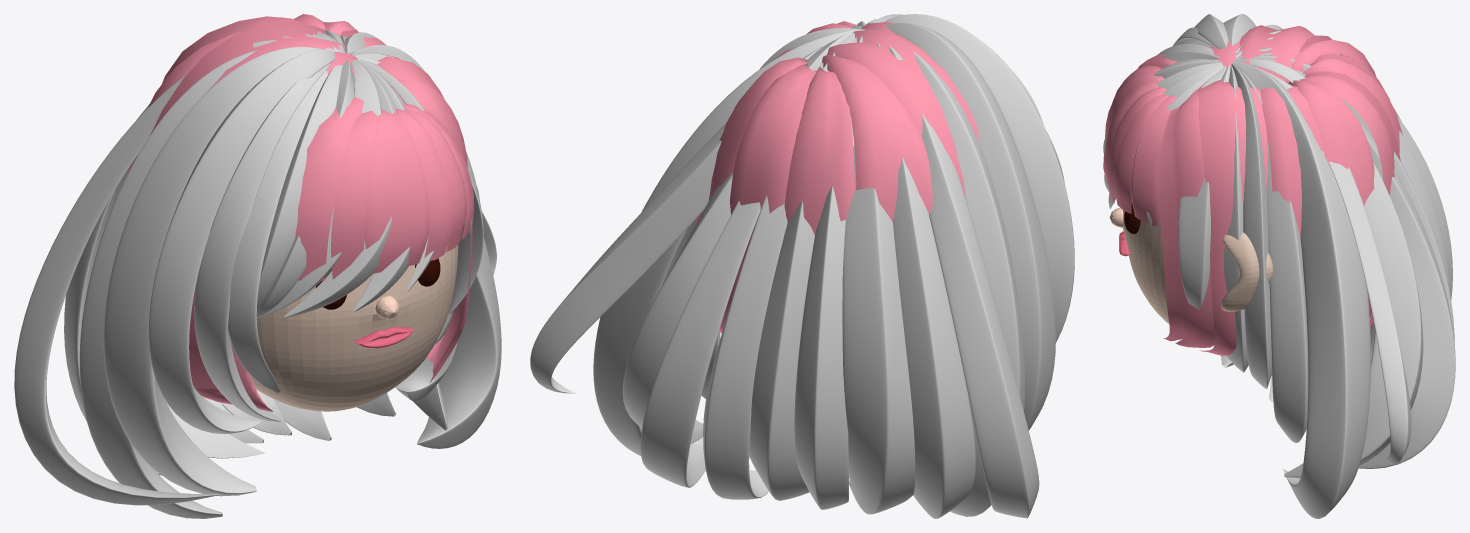
3 renders of one model, left to right at view 1: azimuth 30°, elevation 25°; view 2: azimuth 150°, elevation 25°; view 3: azimuth 270°, elevation 25°, orthographic. The views are drawn at different scales.
Visible parts, largest first — view 1: dummyHair, NurbsPath.015, Face, NurbsPath.014, NurbsPath.017, NurbsPath.019, NurbsPath.008, NurbsPath.016, NurbsPath.007, NurbsPath.006, NurbsPath.026, NurbsPath.003 (+12 smaller); view 2: dummyHair, NurbsPath.020, NurbsPath.017, NurbsPath.026, NurbsPath.015, NurbsPath.021, NurbsPath.024, NurbsPath.023, NurbsPath.018, NurbsPath.022, NurbsPath.014, NurbsPath.016 (+3 smaller); view 3: dummyHair, NurbsPath.016, NurbsPath.024, NurbsPath.025, NurbsPath.013, NurbsPath.018, NurbsPath.012, Face, NurbsPath.009, NurbsPath.010, NurbsPath.022, NurbsPath.023 (+8 smaller).
Boxes of the visible parts, x1,y1,x2,y2 form: dummyHair: (127, 14, 474, 411); NurbsPath.015: (103, 47, 321, 496); Face: (251, 186, 479, 411); NurbsPath.014: (149, 49, 335, 433); NurbsPath.017: (14, 40, 336, 505); NurbsPath.019: (79, 48, 323, 518); NurbsPath.008: (194, 63, 330, 421); NurbsPath.016: (343, 32, 501, 448); NurbsPath.007: (228, 70, 327, 392); NurbsPath.006: (257, 65, 342, 309); NurbsPath.026: (64, 36, 337, 475); NurbsPath.003: (284, 60, 396, 317); dummyHair: (696, 21, 978, 333); NurbsPath.020: (842, 143, 915, 514); NurbsPath.017: (889, 46, 1039, 518); NurbsPath.026: (877, 42, 975, 518); NurbsPath.015: (884, 22, 1055, 430); NurbsPath.021: (794, 36, 862, 509); NurbsPath.024: (640, 29, 864, 487); NurbsPath.023: (703, 34, 854, 499); NurbsPath.018: (530, 43, 828, 393); NurbsPath.022: (749, 37, 856, 500); NurbsPath.014: (884, 14, 1074, 342); NurbsPath.016: (593, 30, 863, 455); dummyHair: (1103, 25, 1402, 355); NurbsPath.016: (1232, 62, 1370, 518); NurbsPath.024: (1232, 57, 1455, 468); NurbsPath.025: (1237, 59, 1423, 478); NurbsPath.013: (1233, 64, 1307, 442); NurbsPath.018: (1232, 62, 1411, 464); NurbsPath.012: (1231, 64, 1271, 388); Face: (1122, 171, 1273, 323); NurbsPath.009: (1178, 65, 1230, 309); NurbsPath.010: (1224, 65, 1248, 372); NurbsPath.022: (1259, 52, 1450, 294); NurbsPath.023: (1234, 55, 1454, 341).
Size of the model in its own units: 284 by 262 by 207.
